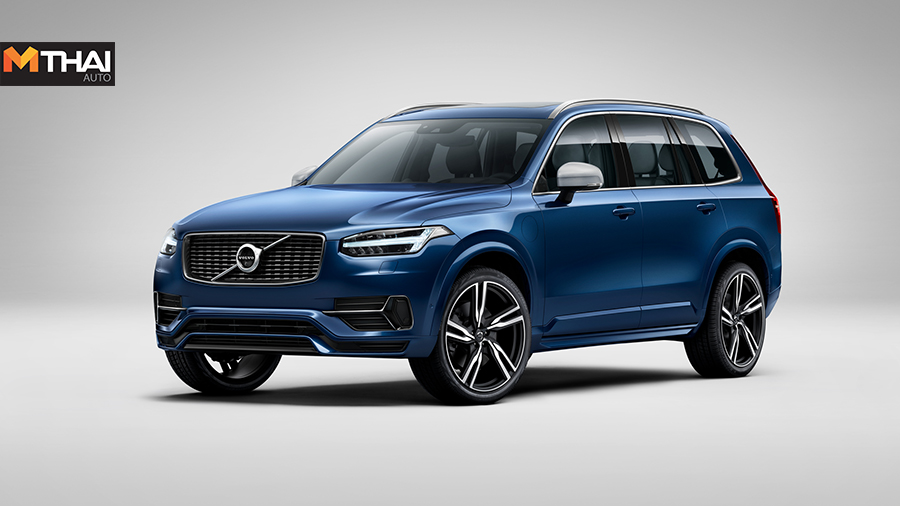pickup: (151, 98, 786, 404)
